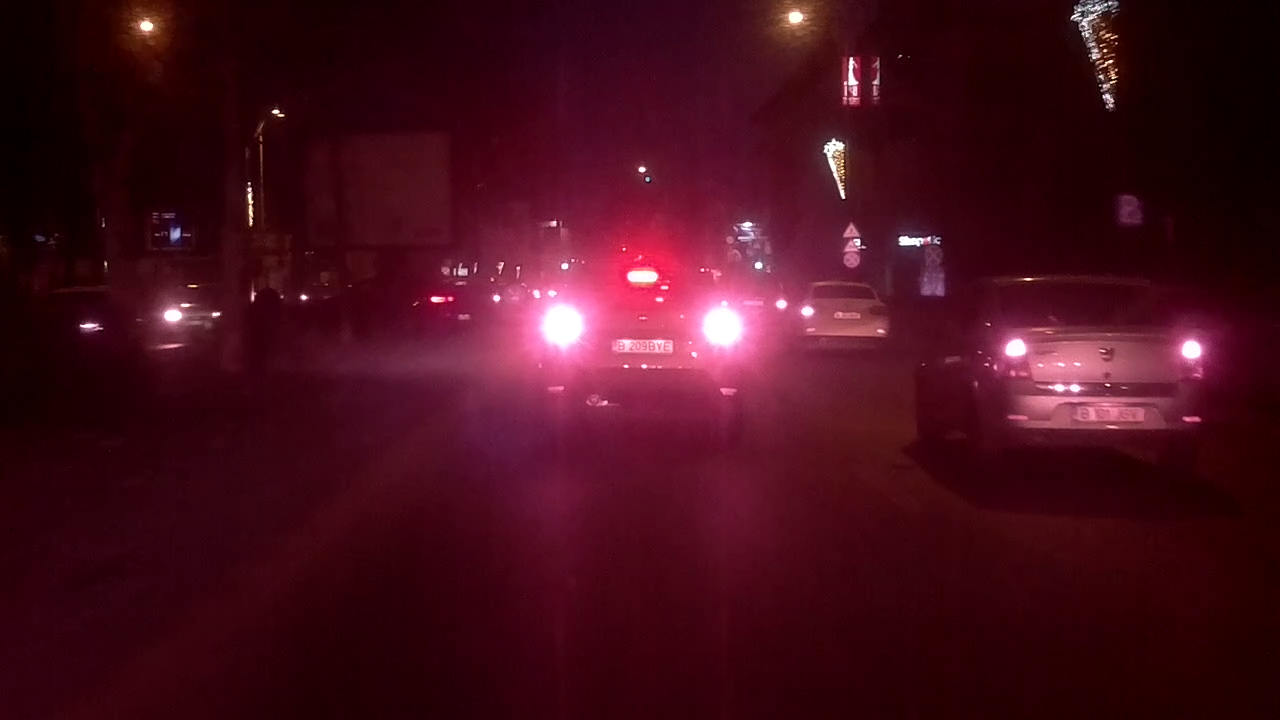license-plate: (1069, 404, 1147, 423), (609, 337, 675, 356)
